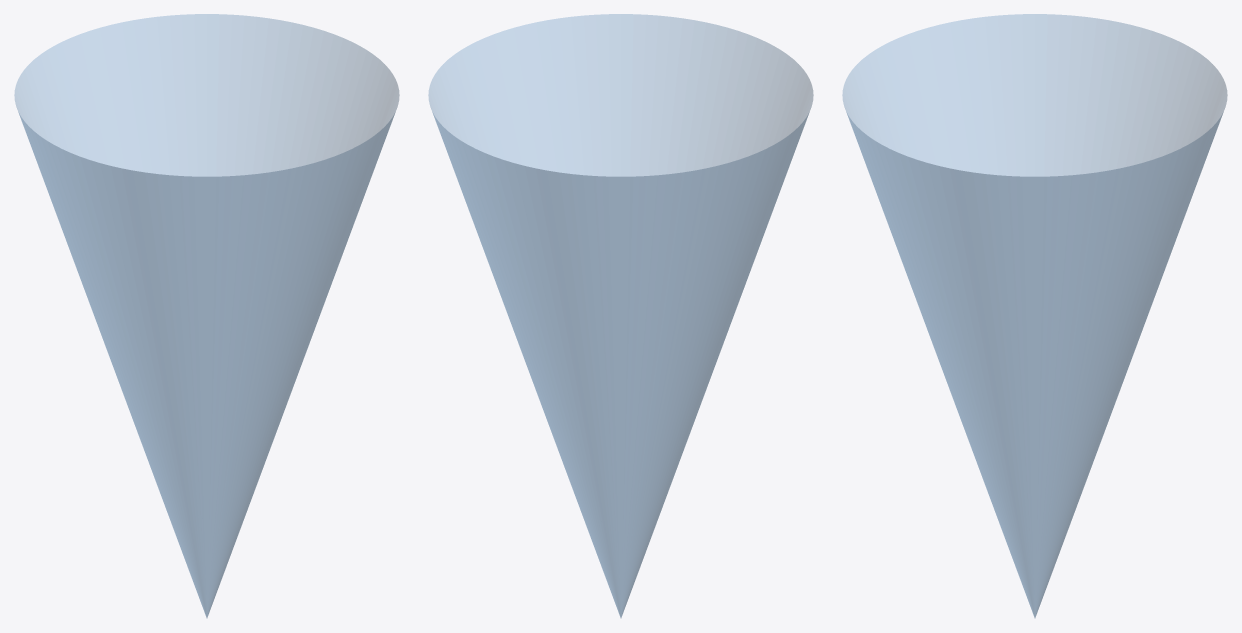
File: holoblend.fbx
3 views of the same model, side by side, from view 1: azimuth 30°, elevation 25°; view 2: azimuth 150°, elevation 25°; view 3: azimuth 270°, elevation 25° (orthographic).
Parts seen in each view (by area): view 1: Cone.001; view 2: Cone.001; view 3: Cone.001.
Boxes of the visible parts, <box> form: Cone.001: <box>14,14,399,617</box>; Cone.001: <box>428,14,813,617</box>; Cone.001: <box>842,14,1227,617</box>.
Size of the model in its own units: 400 by 600 by 400.
